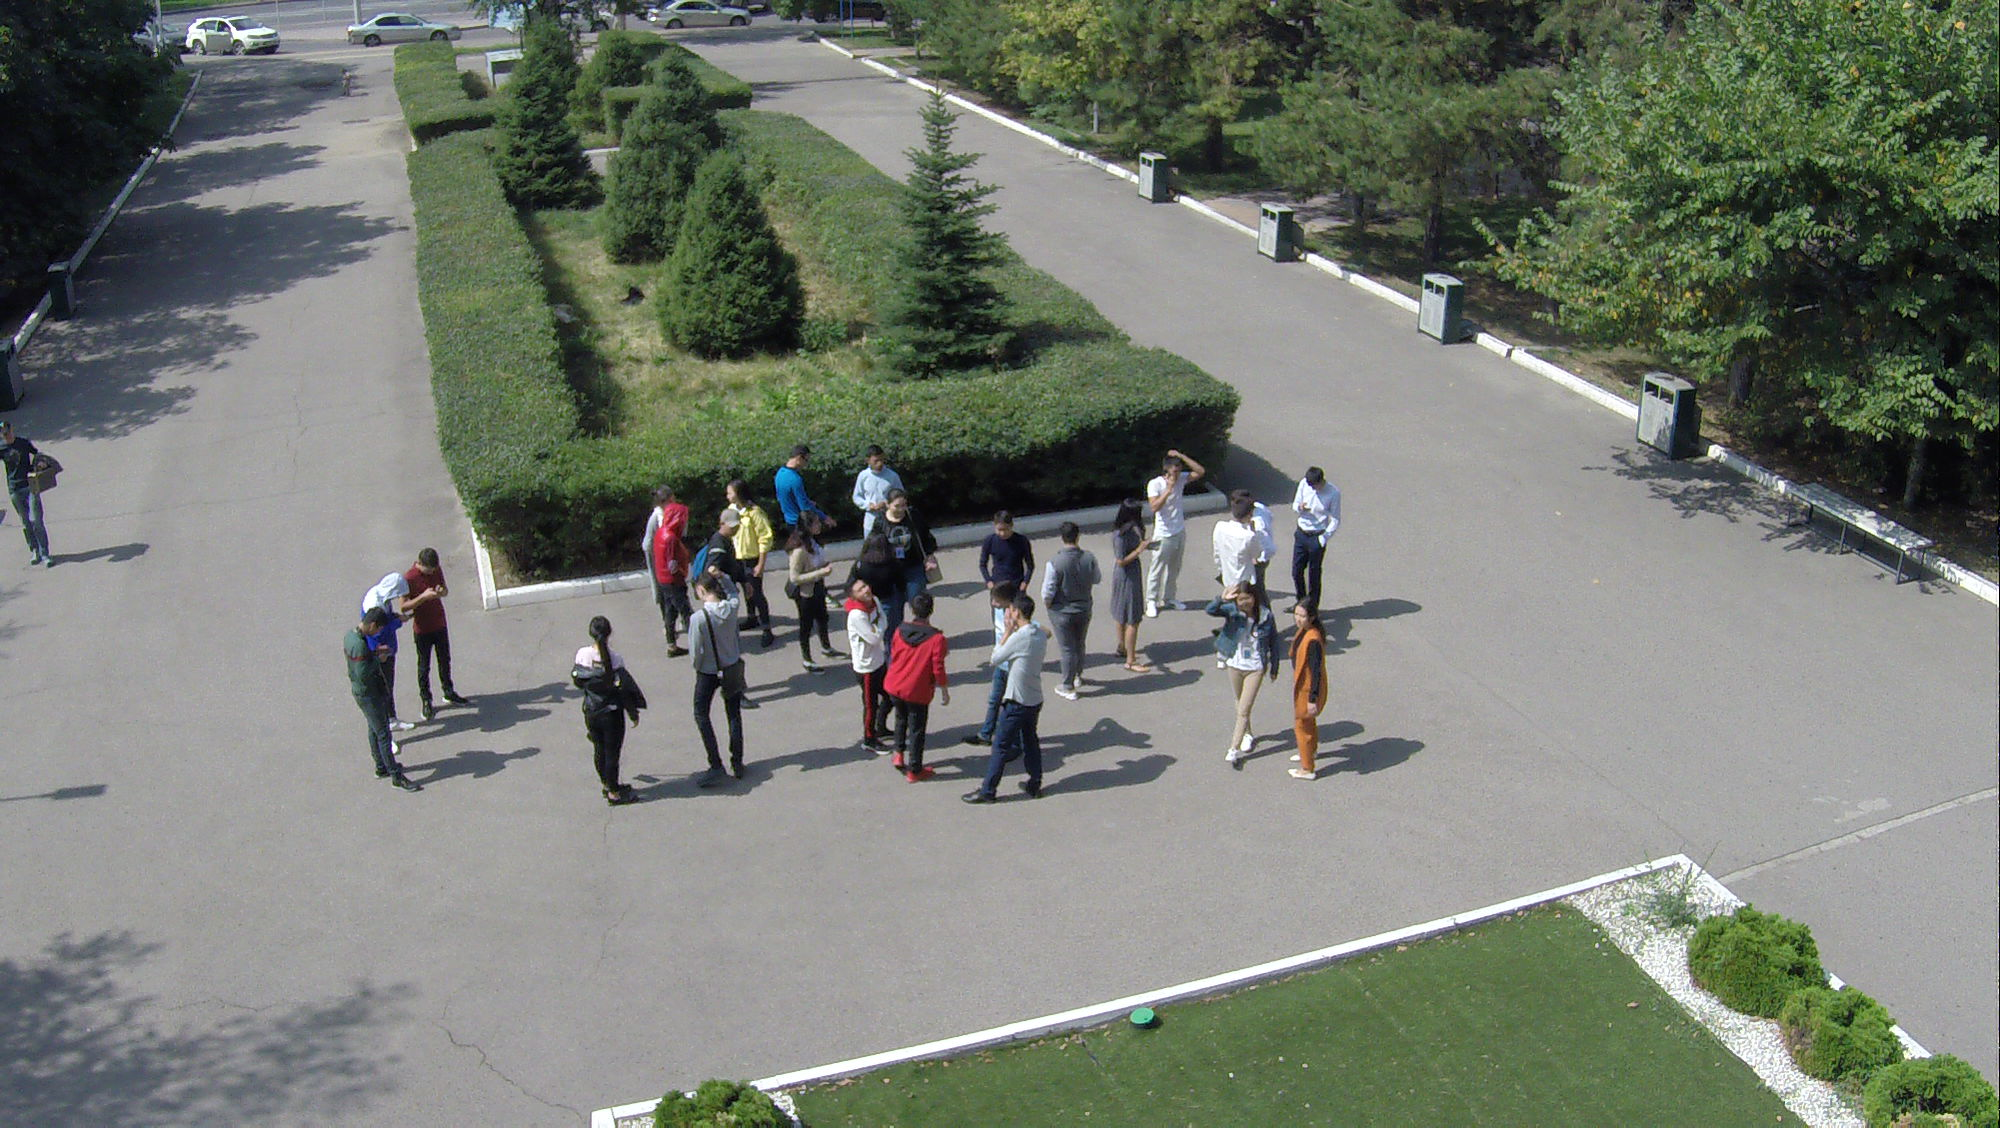person: (1201, 576, 1282, 778), (676, 574, 747, 795), (572, 612, 643, 812), (1091, 499, 1168, 676), (991, 595, 1049, 812), (1278, 601, 1335, 791), (891, 585, 945, 787), (1143, 460, 1207, 626), (712, 478, 772, 651), (1289, 462, 1351, 626), (345, 616, 407, 783), (1045, 526, 1099, 714), (791, 510, 839, 678), (1, 421, 53, 570), (412, 551, 462, 708), (845, 583, 891, 747), (1216, 491, 1274, 612), (653, 505, 697, 664), (772, 435, 826, 533), (982, 522, 1028, 605), (355, 568, 407, 633), (851, 453, 895, 514)
